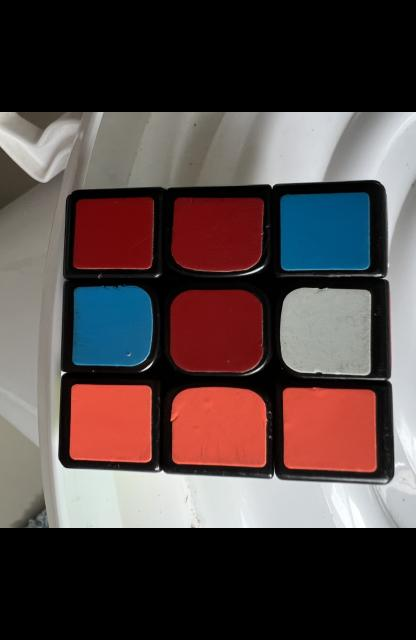Blue: (279, 192, 369, 271), (70, 285, 152, 367)
Orange: (282, 387, 376, 473), (169, 387, 266, 467), (68, 384, 150, 463)
Red: (168, 290, 263, 373), (170, 198, 263, 272), (72, 198, 153, 269)
White: (279, 288, 370, 375)
